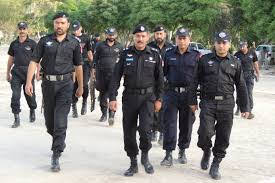uniform: (118, 45, 169, 175), (33, 30, 83, 161), (197, 52, 246, 167), (161, 42, 200, 165), (7, 29, 41, 130), (91, 37, 123, 128)
